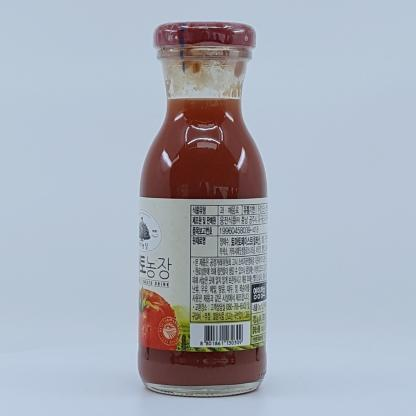-------180ML: (138, 21, 267, 397)
